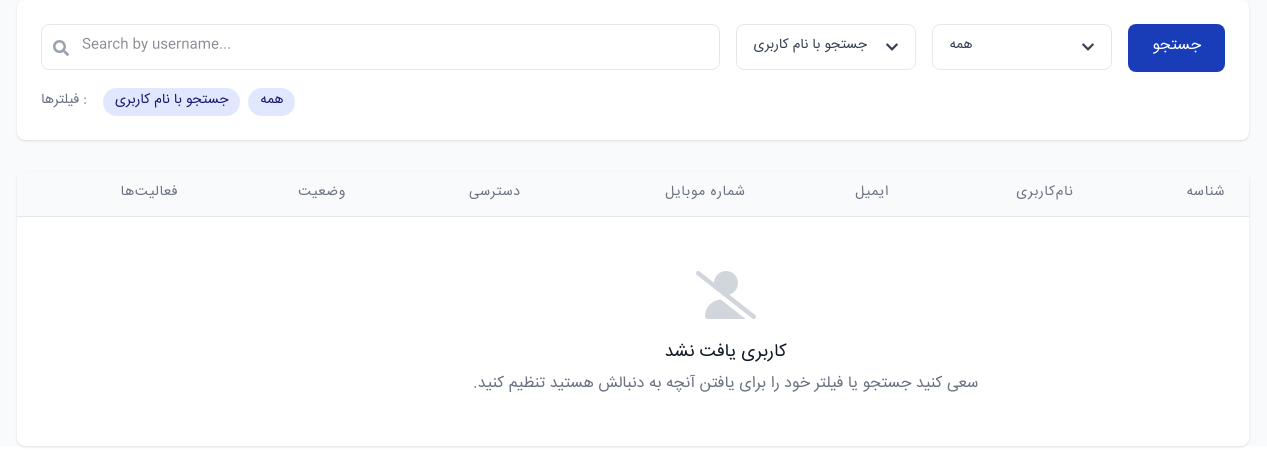
it: UserManagement Component - Tests › shows clear button when filter is active
Type "test" into the field with placeholder "Search by username...". click: x=381, y=47
box: [41,24,720,70]
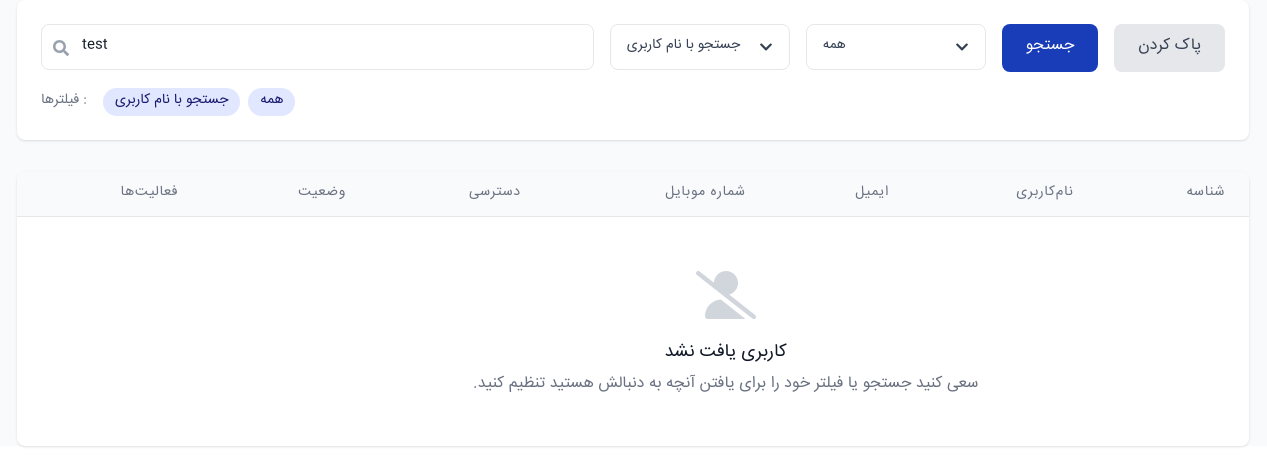
Expected: the button "پاک کردن" is shown, [1114,24,1225,72]
